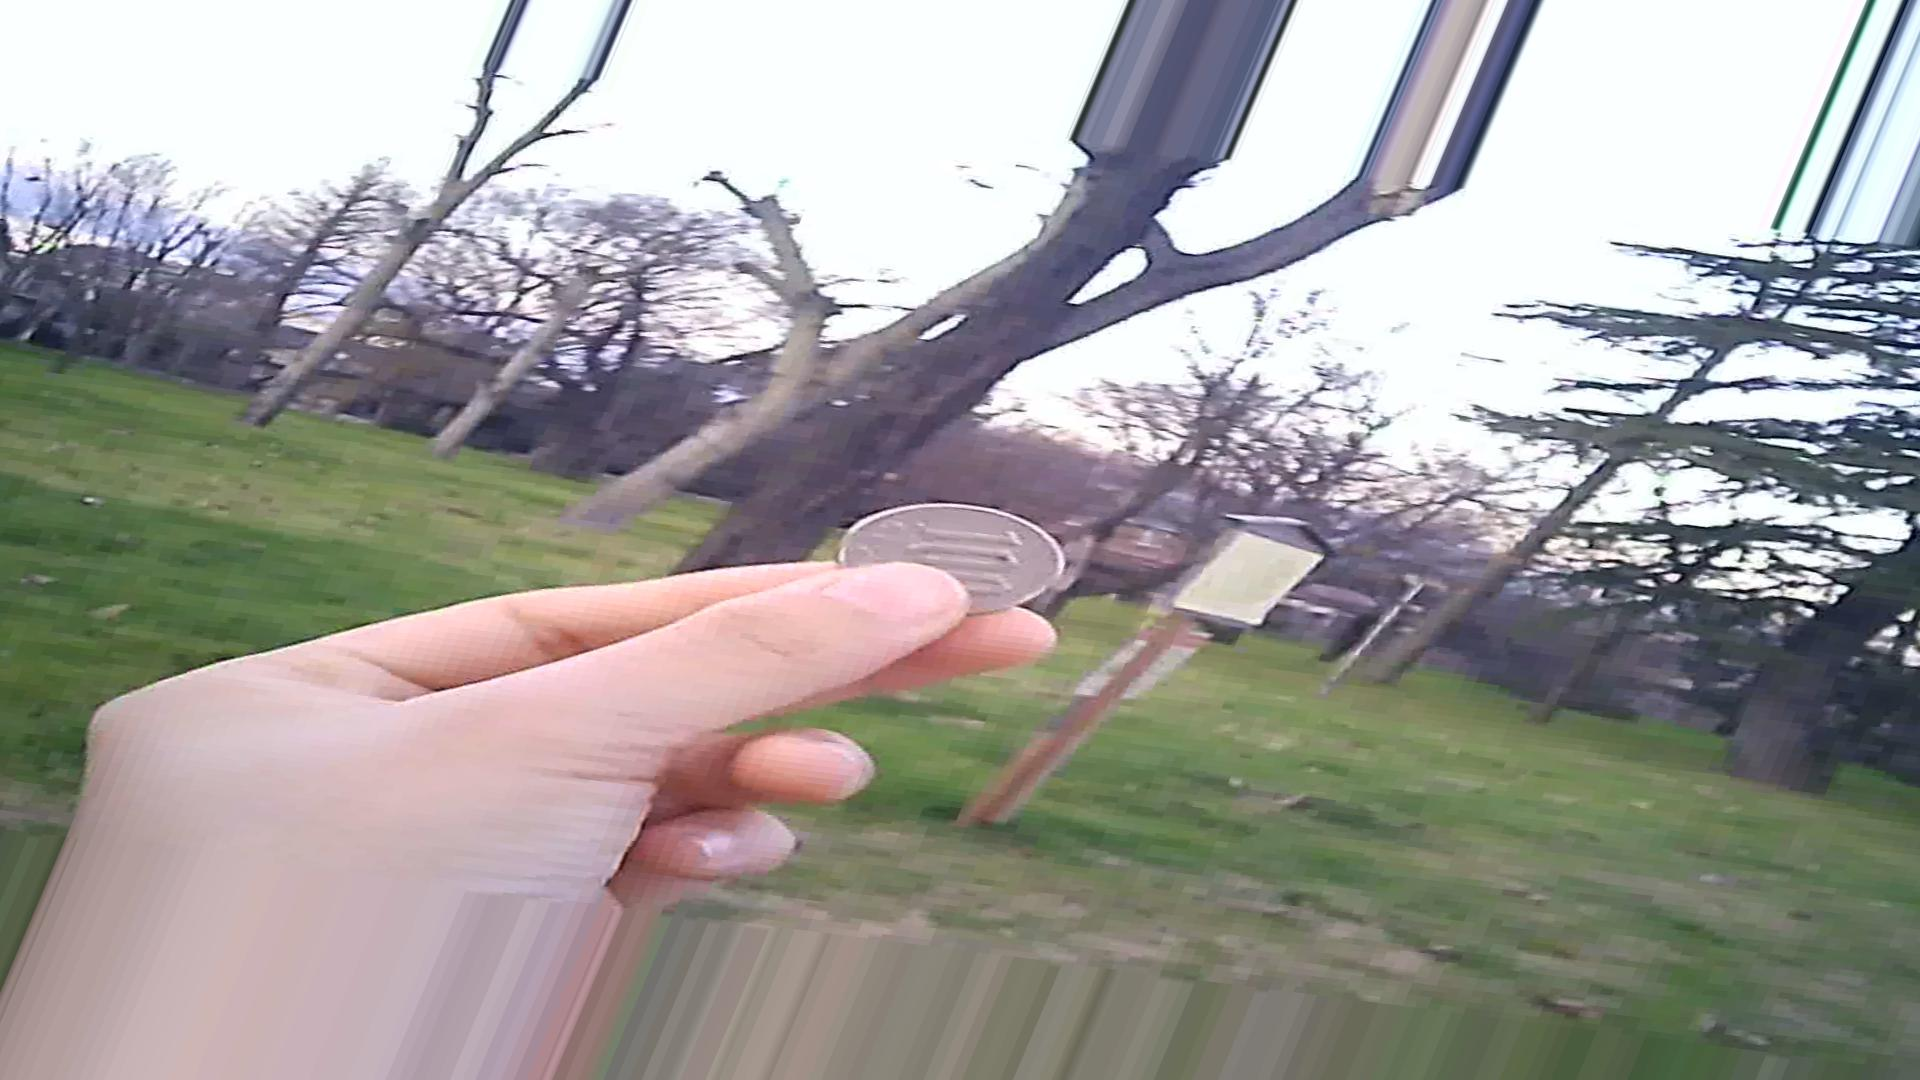100 Yen: (832, 491, 1060, 628)
